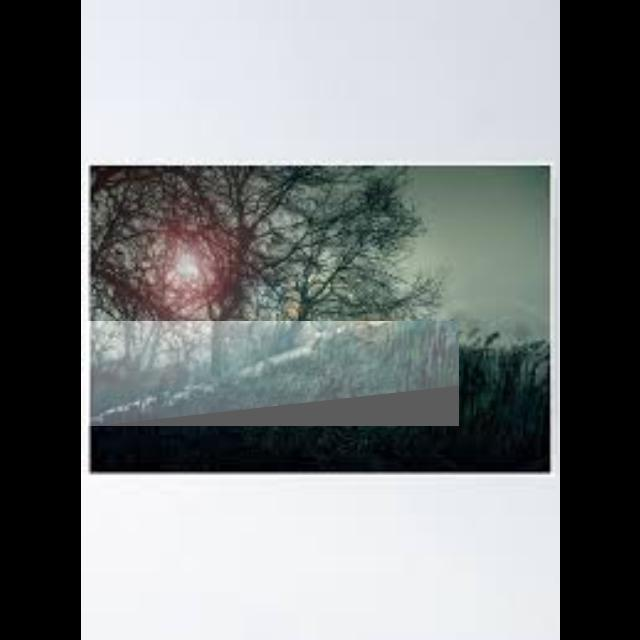fallen_tree: (86, 321, 460, 427)
